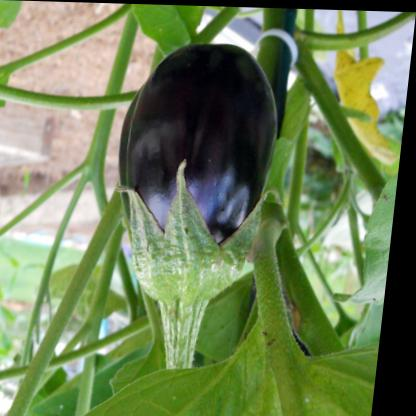--: (97, 36, 293, 378)
